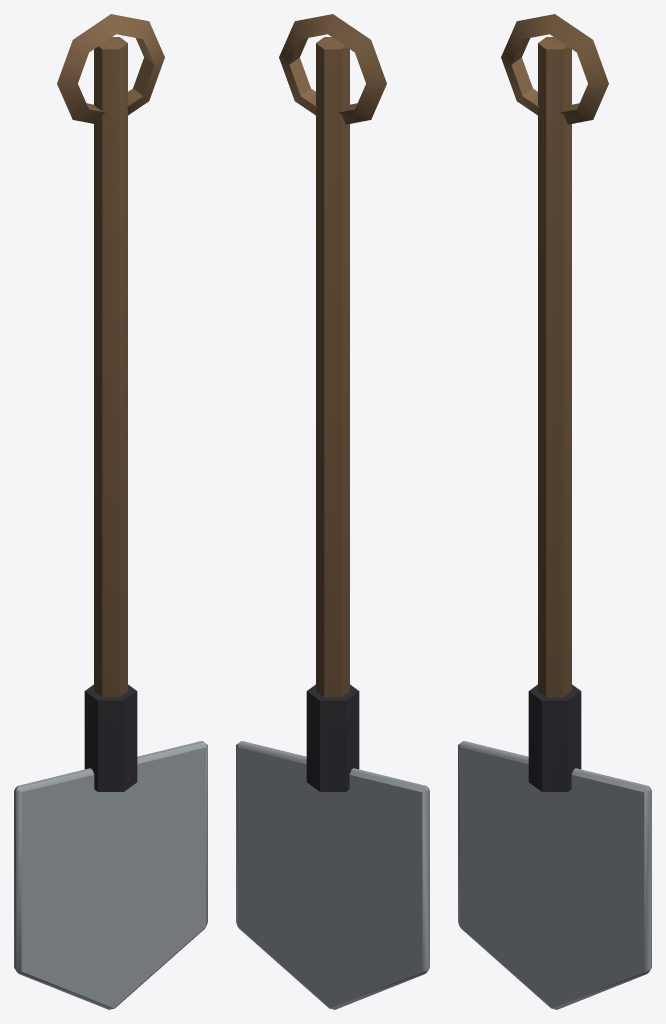
Rendered from carry_shovel.glb.
3 views of the same model, side by side, from view 1: azimuth 30°, elevation 25°; view 2: azimuth 150°, elevation 25°; view 3: azimuth 330°, elevation 25° (orthographic).
Parts seen in each view (by area): view 1: carry_shovel; view 2: carry_shovel; view 3: carry_shovel.
Part boxes in pixels (x1=…): carry_shovel: x1=14, y1=14, x2=207, y2=1009; carry_shovel: x1=236, y1=14, x2=429, y2=1009; carry_shovel: x1=458, y1=14, x2=651, y2=1009.
Bounding box in the file's own units: 0.22 × 1.09 × 0.052.
